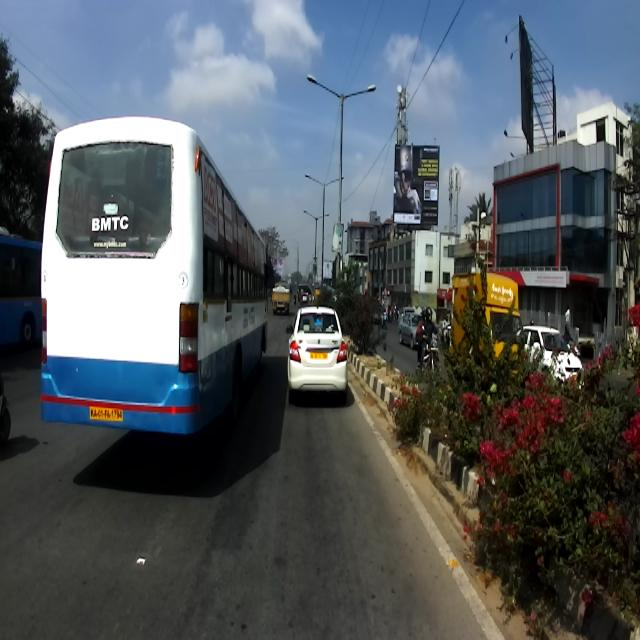bus ahead at: (36, 114, 275, 439)
car ahead at: (281, 296, 352, 415)
